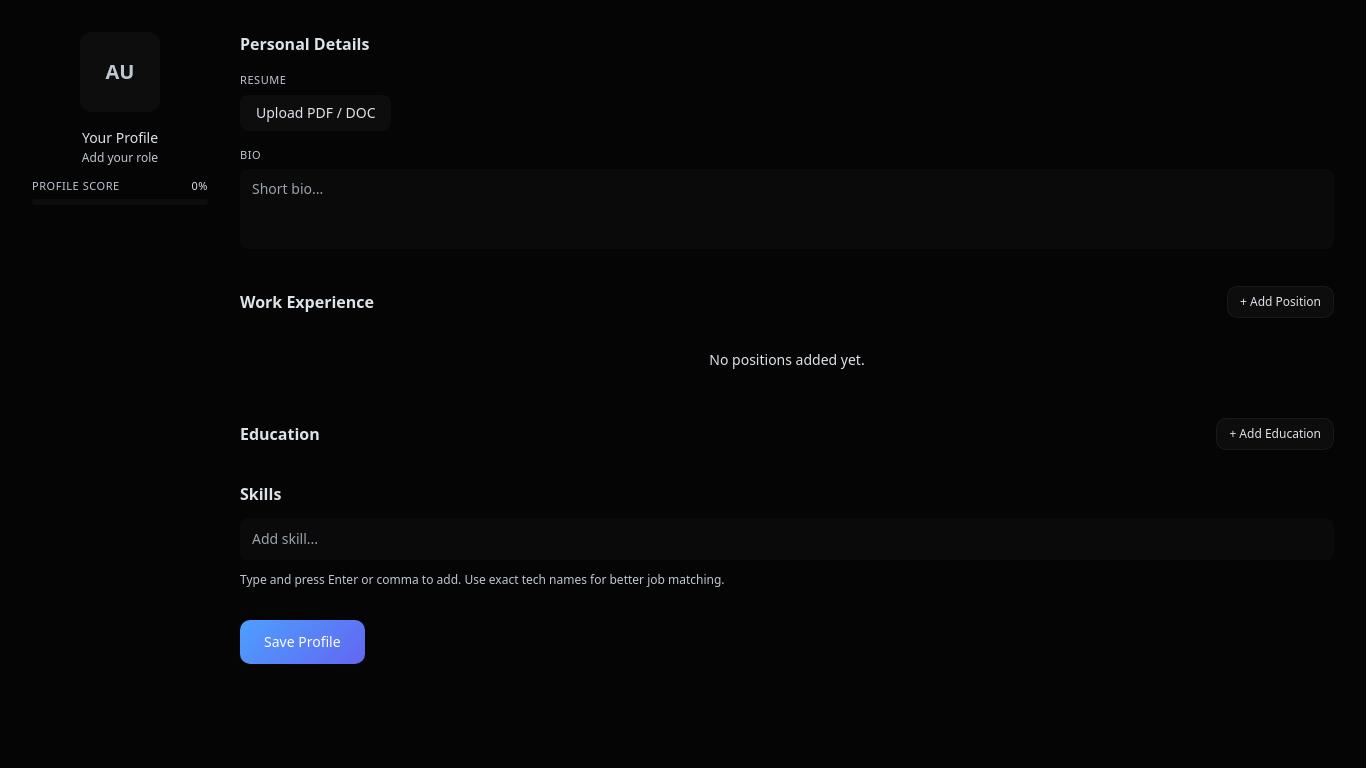
Test: can add a work experience entry
Click the button "+ Add Position" at (1280, 302), box [1227,286,1334,318]
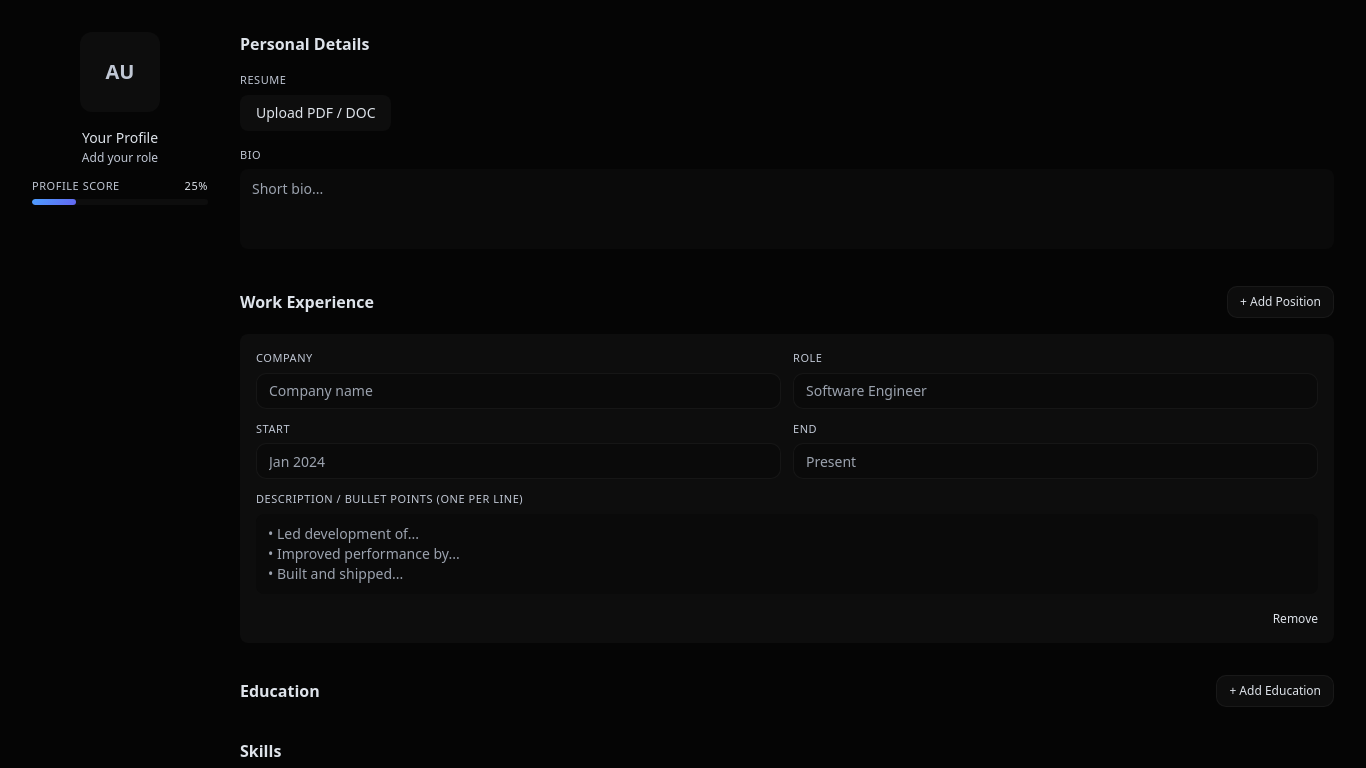
Now the field with placeholder "Company name" is shown, box [256,372,781,408]
